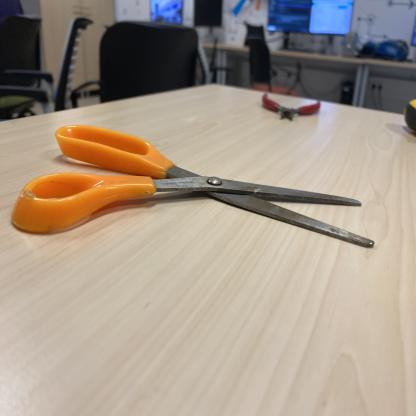scissors: (10, 125, 376, 250)
